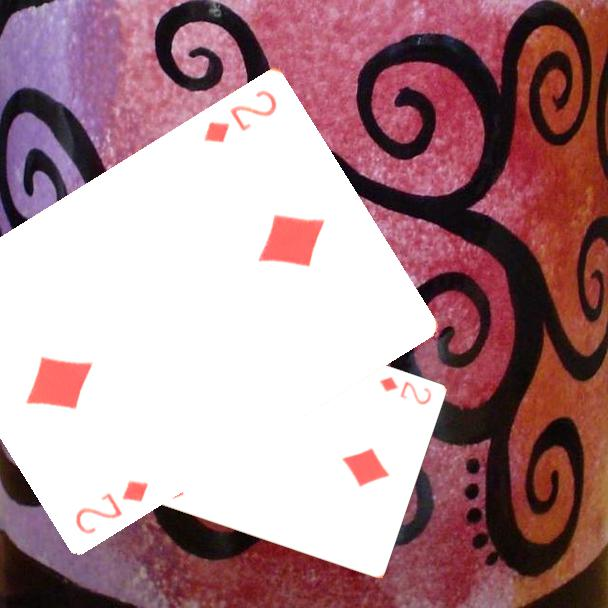d02: (71, 475, 152, 537), (200, 85, 281, 146), (375, 373, 434, 408)
